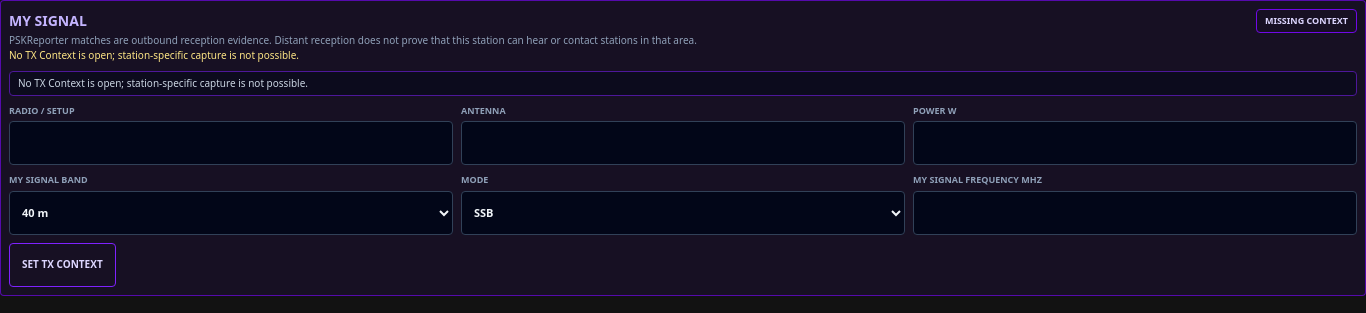
Scenario: MySignalPanel › populates the canonical FT8 frequency when selecting a known band
Expected: the button "SET TX CONTEXT" is shown, [9, 242, 116, 286]
Select "FT8" in the dropdown named "MY SIGNAL MODE" at [683, 212], box [461, 190, 905, 234]
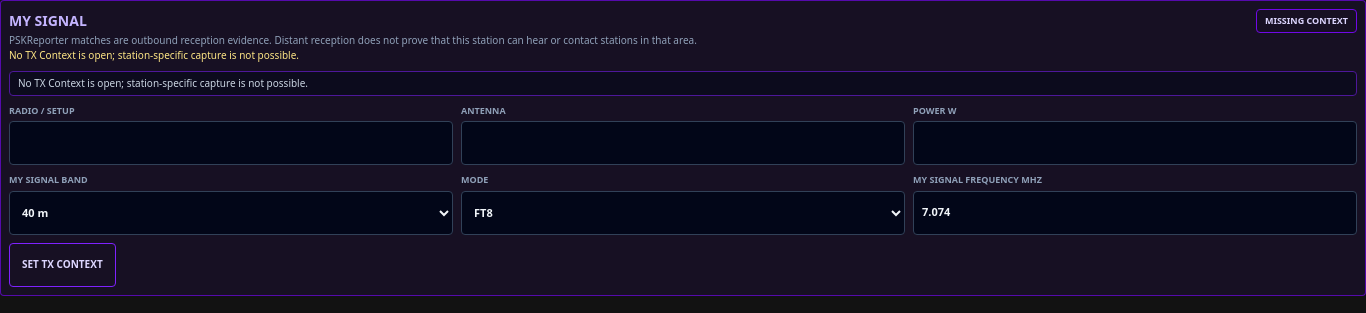
Expected: the number field labelled "MY SIGNAL FREQUENCY MHz" holds "7.074", [913, 190, 1357, 234]
